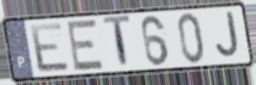0: (176, 11, 207, 66)
6: (140, 14, 171, 68)
E: (27, 21, 72, 74), (66, 18, 106, 73)
J: (214, 10, 242, 61)
T: (101, 14, 132, 72)
